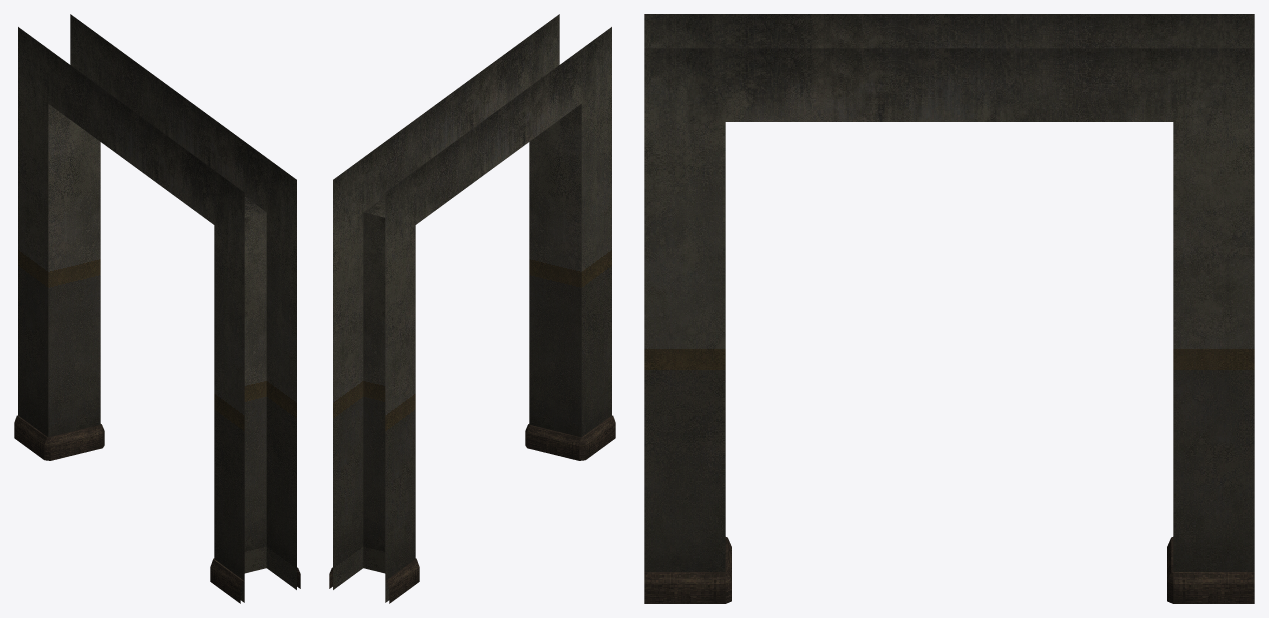
Rendered from arc_1_wall_1.glb.
The picture shows the model from 3 angles, left to right: view 1: azimuth 30°, elevation 25°; view 2: azimuth 150°, elevation 25°; view 3: azimuth 270°, elevation 25°; orthographic projection. The views are drawn at different scales.
Parts seen in each view (by area): view 1: arc_1_wall_1; view 2: arc_1_wall_1; view 3: arc_1_wall_1.
Part boxes in pixels (left/top/right/bottom): arc_1_wall_1: left=14, top=14, right=300, bottom=603; arc_1_wall_1: left=329, top=14, right=615, bottom=603; arc_1_wall_1: left=644, top=14, right=1254, bottom=603.
Bounding box in the file's own units: 0.46 × 3 × 3.
2 materials, 2 textured.
